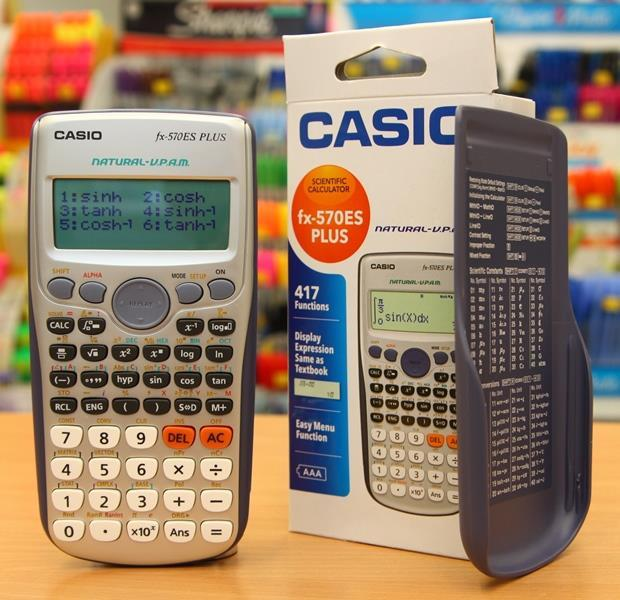Calculator: (25, 104, 261, 572), (354, 247, 458, 521)
